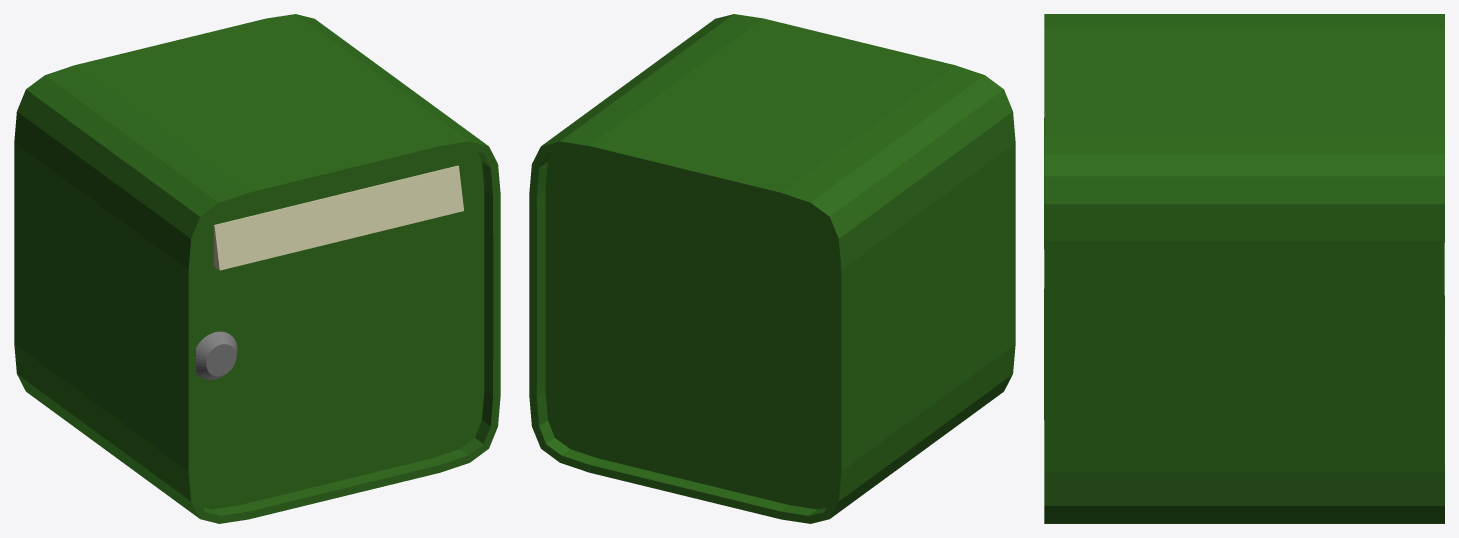
Rendered from sweethome3d-contributions-letters-box.glb.
3 renders of one model, left to right at view 1: azimuth 30°, elevation 25°; view 2: azimuth 150°, elevation 25°; view 3: azimuth 270°, elevation 25°, orthographic. The views are drawn at different scales.
Parts seen in each view (by area): view 1: Plane, Plane.001_Plane.002, Cube_Cube.004; view 2: Plane; view 3: Plane.
Boxes of the visible parts, bbox=[...] form: Plane: bbox=[14, 14, 500, 523]; Plane.001_Plane.002: bbox=[196, 149, 484, 509]; Cube_Cube.004: bbox=[213, 165, 463, 270]; Plane: bbox=[529, 14, 1015, 523]; Plane: bbox=[1044, 14, 1444, 523].
Bounding box in the file's own units: 2.07 × 2.07 × 2.
